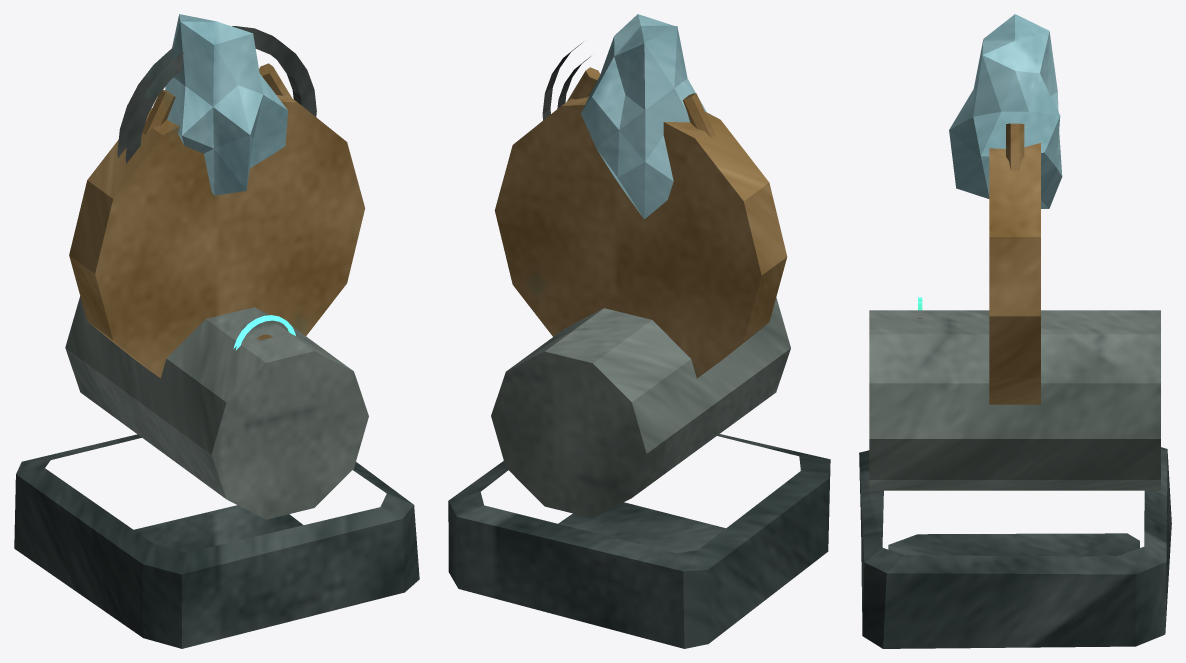
The model's file is 0578_relic_pedestal_03.glb.
The picture shows the model from 3 angles, left to right: view 1: azimuth 30°, elevation 25°; view 2: azimuth 150°, elevation 25°; view 3: azimuth 270°, elevation 25°; orthographic projection.
Visible parts, largest first — view 1: brass, stone_dark, stone, ice, iron; view 2: brass, stone_dark, stone, ice, iron; view 3: stone, stone_dark, brass, ice.
Boxes of the visible parts, x1,y1,x2,y2 form: brass: [69, 63, 365, 378]; stone_dark: [14, 434, 419, 648]; stone: [65, 296, 368, 519]; ice: [165, 14, 287, 195]; iron: [117, 26, 316, 163]; brass: [494, 67, 787, 378]; stone_dark: [448, 434, 830, 648]; stone: [491, 297, 790, 518]; ice: [581, 14, 706, 219]; iron: [542, 43, 590, 120]; stone: [869, 310, 1160, 490]; stone_dark: [859, 447, 1171, 648]; brass: [918, 123, 1040, 404]; ice: [949, 14, 1062, 208].
Size of the model in its own units: 0.9664 by 1.9 by 0.9643.
Materials: 6 (6 with a texture image).
